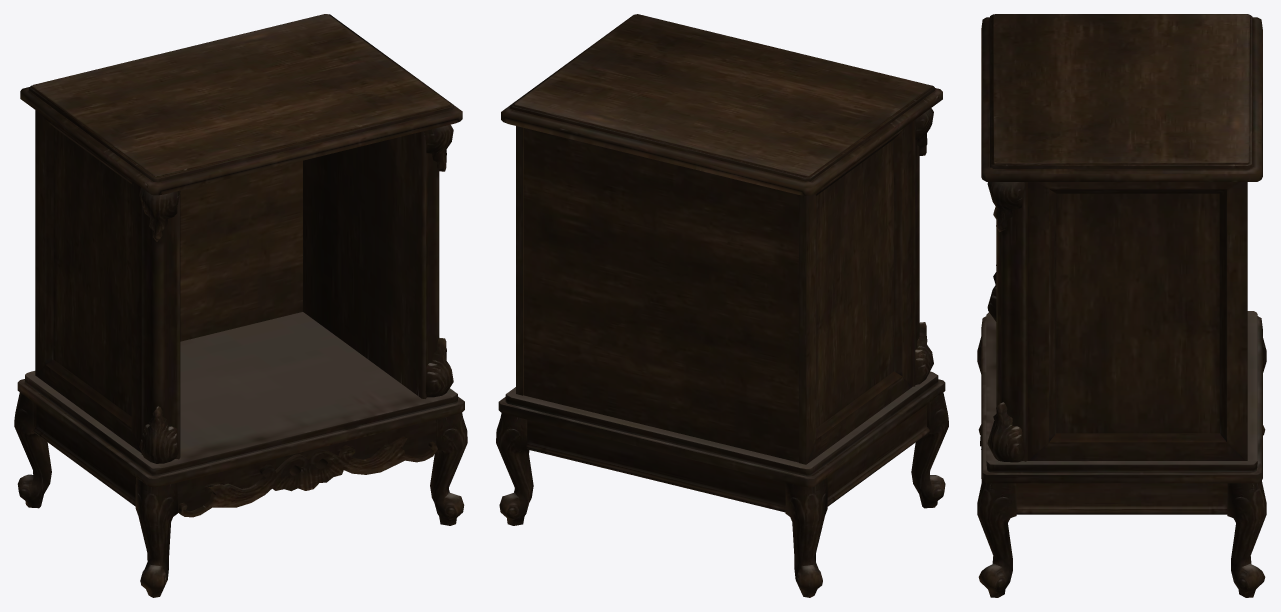
Rendered from ClassicNightstand_01.glb.
3 views of the same model, side by side, from view 1: azimuth 30°, elevation 25°; view 2: azimuth 150°, elevation 25°; view 3: azimuth 270°, elevation 25° (orthographic). The views are drawn at different scales.
Parts seen in each view (by area): view 1: ClassicNightstand_01; view 2: ClassicNightstand_01; view 3: ClassicNightstand_01.
Part boxes in pixels (x1,y1,x2,y2): ClassicNightstand_01: (14,14,467,597); ClassicNightstand_01: (496,14,948,597); ClassicNightstand_01: (977,14,1266,597).
Size of the model in its own units: 0.5678 by 0.7 by 0.4242.
Materials: 1 (1 with a texture image).
